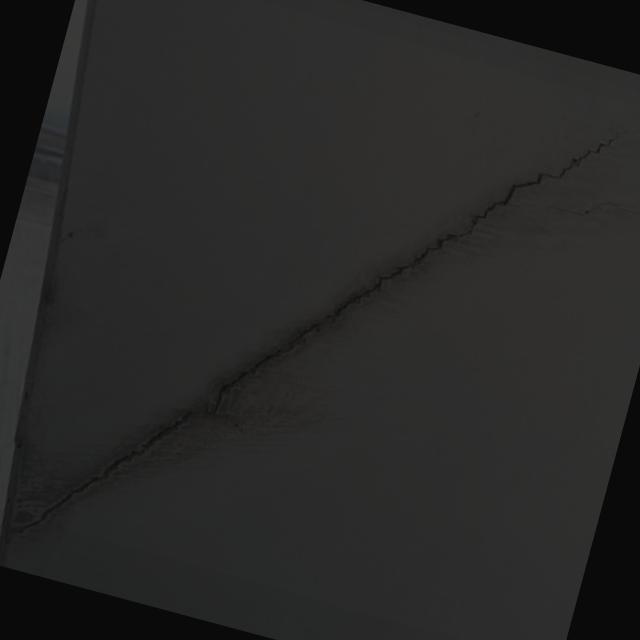crack: (21, 14, 614, 640)
